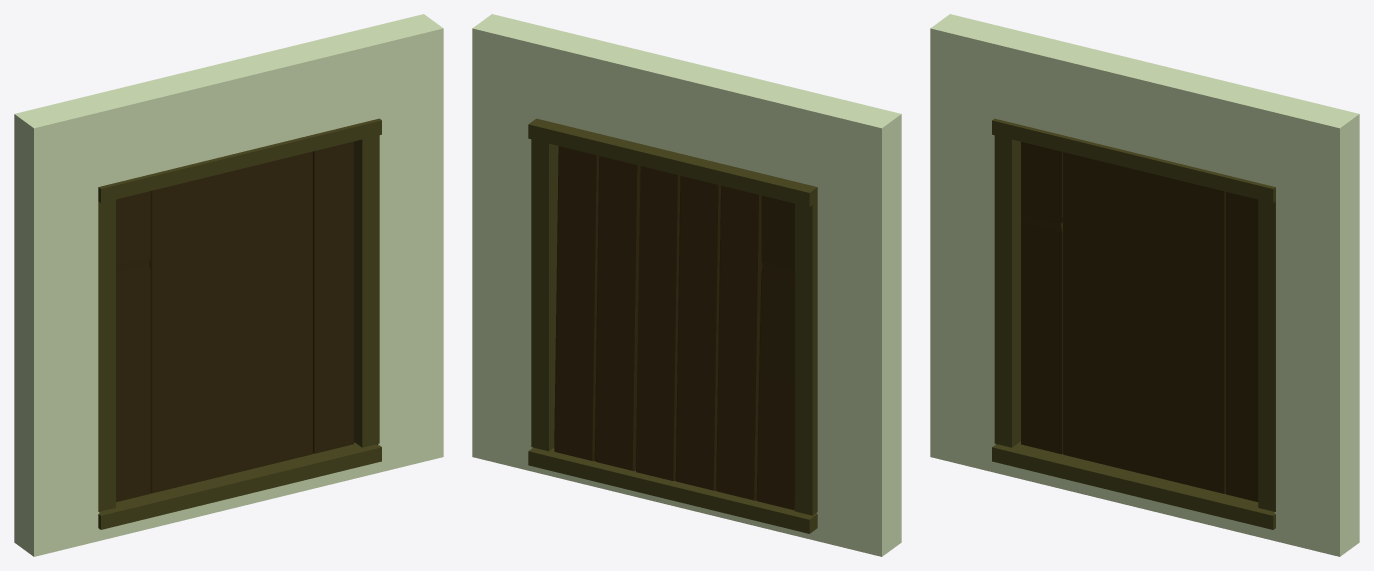
Rendered from DoorwayBlocked_3x3.fbx.
The picture shows the model from 3 angles, left to right: view 1: azimuth 30°, elevation 25°; view 2: azimuth 150°, elevation 25°; view 3: azimuth 330°, elevation 25°; orthographic projection.
Parts seen in each view (by area): view 1: DoorwayBlocked_3x3; view 2: DoorwayBlocked_3x3; view 3: DoorwayBlocked_3x3.
Part boxes in pixels (x1=…): DoorwayBlocked_3x3: x1=14, y1=14, x2=443, y2=556; DoorwayBlocked_3x3: x1=472, y1=14, x2=901, y2=556; DoorwayBlocked_3x3: x1=930, y1=14, x2=1359, y2=556.
Size of the model in its own units: 300 by 300 by 38.48.
